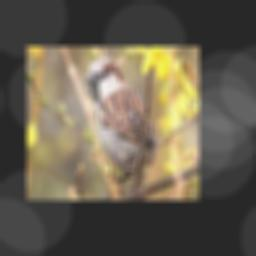Sparrow: (84, 56, 156, 183)
